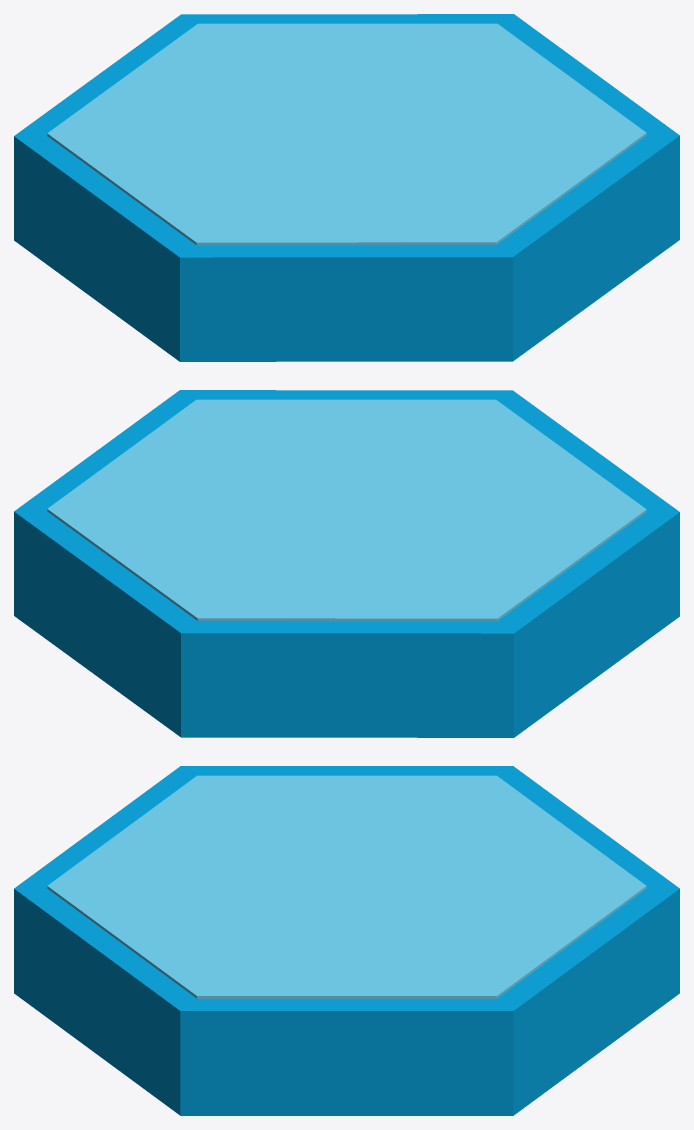
File: Platform_AmongUsTheme.fbx
The picture shows the model from 3 angles, top to bottom: view 1: azimuth 30°, elevation 25°; view 2: azimuth 150°, elevation 25°; view 3: azimuth 270°, elevation 25°; orthographic projection.
Parts seen in each view (by area): view 1: Platform (1), Platform; view 2: Platform (1), Platform; view 3: Platform (1), Platform.
Part boxes in pixels (bbox=[...]): Platform (1): bbox=[47, 23, 646, 245]; Platform: bbox=[14, 14, 679, 361]; Platform (1): bbox=[47, 399, 646, 621]; Platform: bbox=[14, 390, 679, 737]; Platform (1): bbox=[47, 775, 646, 998]; Platform: bbox=[14, 766, 679, 1115].
Size of the model in its own units: 5.02 by 1.03 by 5.77.
